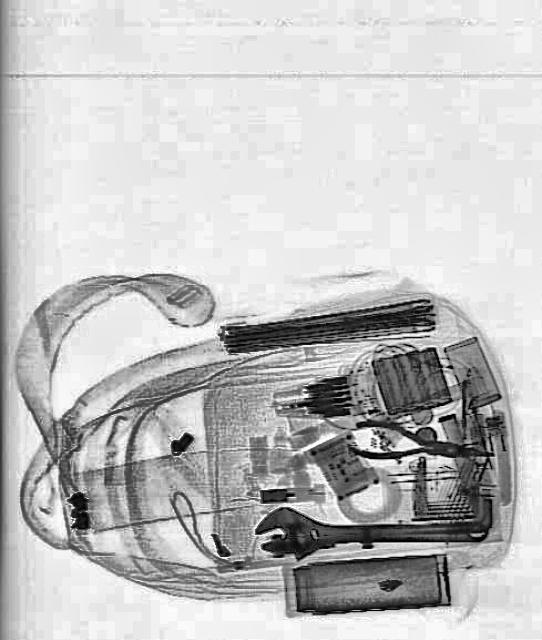Pliers: (343, 412, 494, 476)
Wrench: (252, 504, 488, 560)
